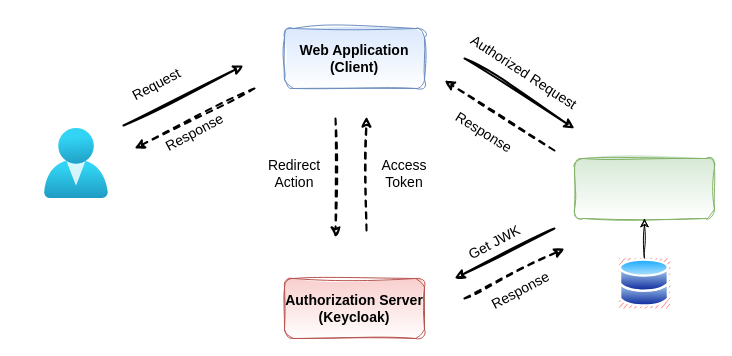
Image size: 732x356. Some labels were removed from this diagram. The shapes that lost their labels are listed below. From the top down, each one's centre as x and y in pixels, then its label:
pixel 76 163: User (Resource owner)
pixel 644 188: Resource server (SpringBoot App)
